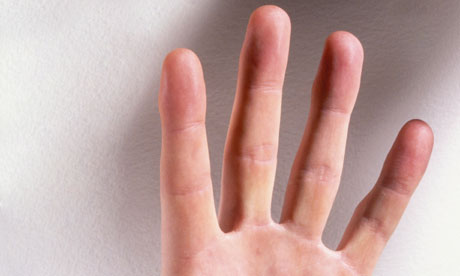finger: (281, 34, 377, 221), (223, 5, 294, 230), (329, 124, 438, 259), (160, 46, 216, 256)
